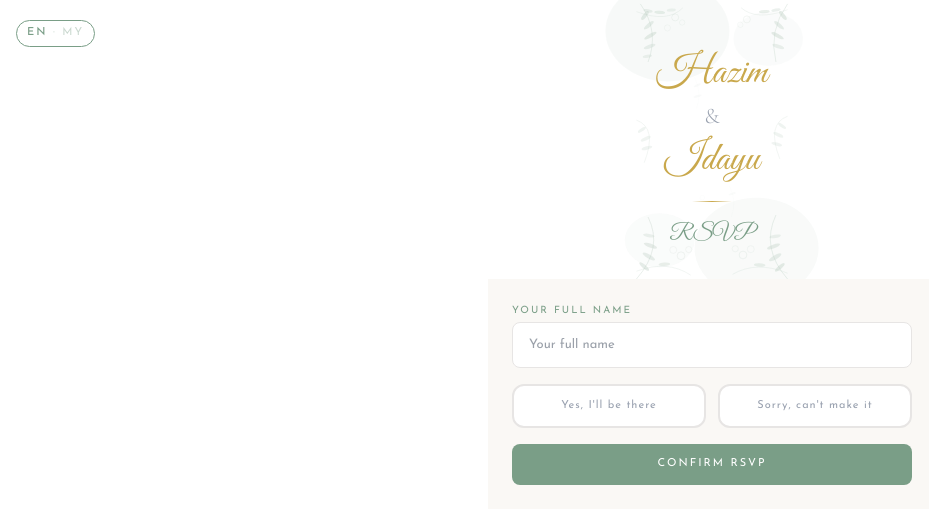
RsvpPage › shows error when attendance is not selected on submit
The image size is (929, 530).
Type "Ahmad" into the field with placeholder "Your full name".
click(712, 345); type("Ahmad")  # box x1=512 y1=322 x2=912 y2=368
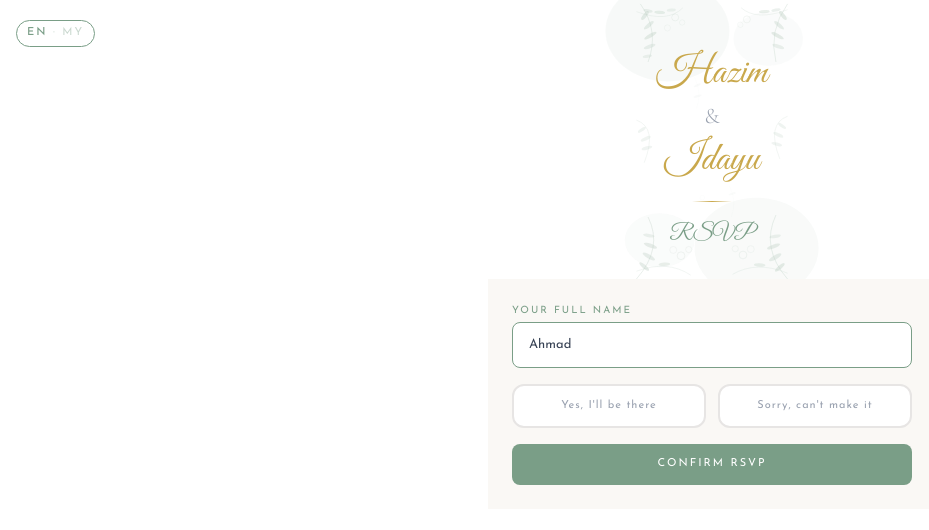
Click the button "Confirm RSVP".
click(712, 464)  # box x1=512 y1=444 x2=912 y2=484
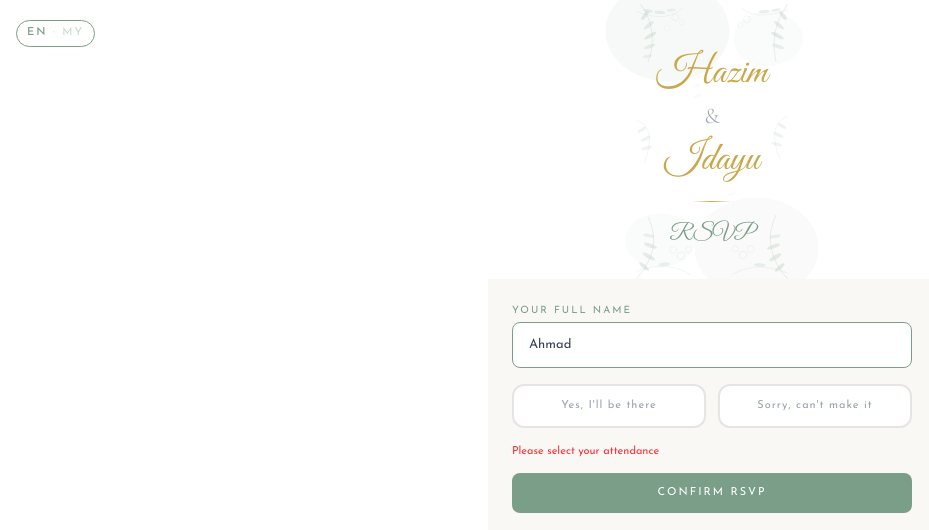
Result: the text "Please select your attendance" is shown at x1=512 y1=446 x2=659 y2=457
